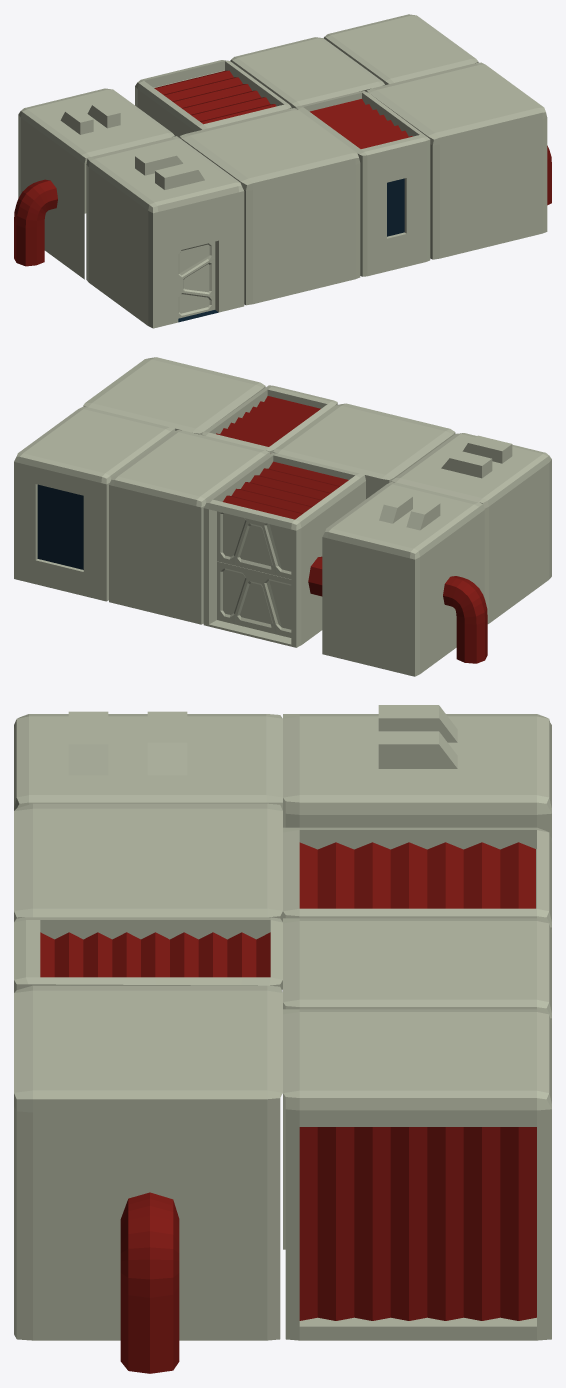
File: HouseLarge2nd.fbx
3 views of the same model, one above another, from view 1: azimuth 30°, elevation 25°; view 2: azimuth 150°, elevation 25°; view 3: azimuth 270°, elevation 25° (orthographic). The views are drawn at different scales.
Visible parts, largest first — view 1: Cube.003; view 2: Cube.003; view 3: Cube.003.
Part boxes in pixels (<box>): Cube.003: <box>14,14,551,328</box>; Cube.003: <box>14,357,551,676</box>; Cube.003: <box>14,705,551,1373</box>.
Size of the model in its own units: 3989 by 1100 by 2000.
